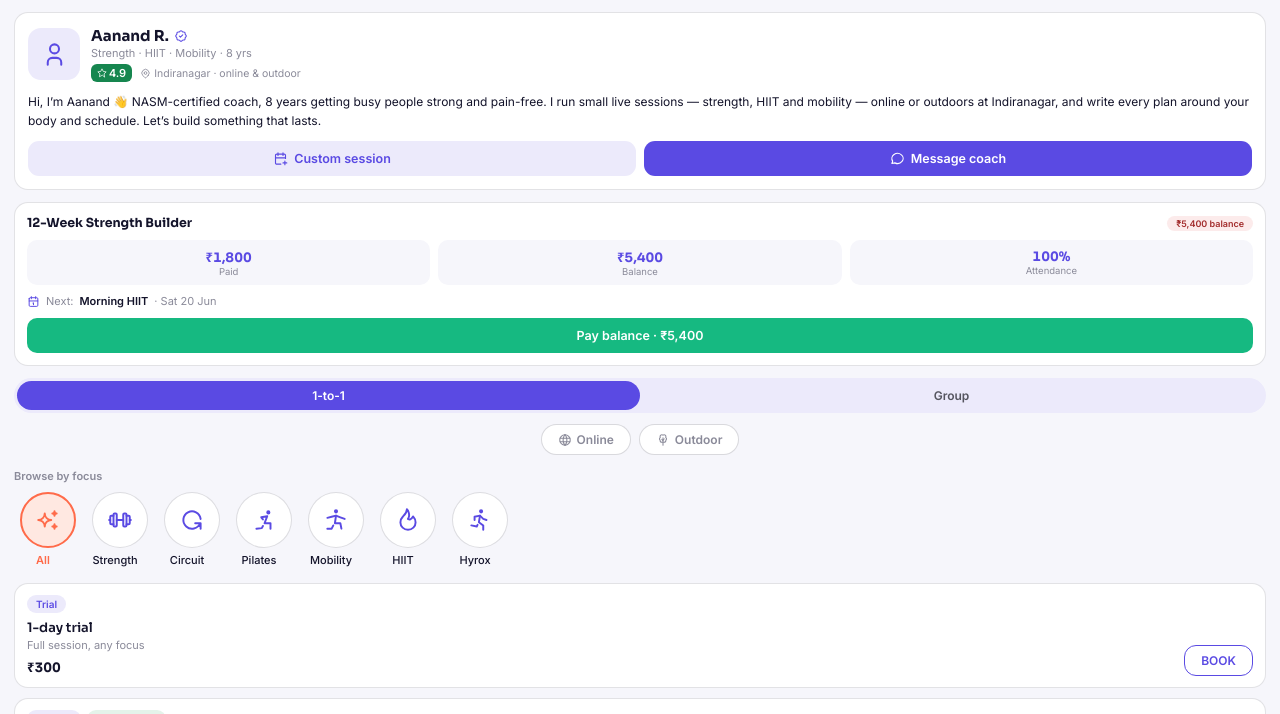
Scenario: SessionsScreen › opens on the coach profile with 1:1 programs, and switches to group classes
This screenshot has width=1280, height=714.
Expected: the text "Aanand R." is shown, [91,26,169,45]
Click the button "Group" at (952, 396), box [640,381,1263,410]
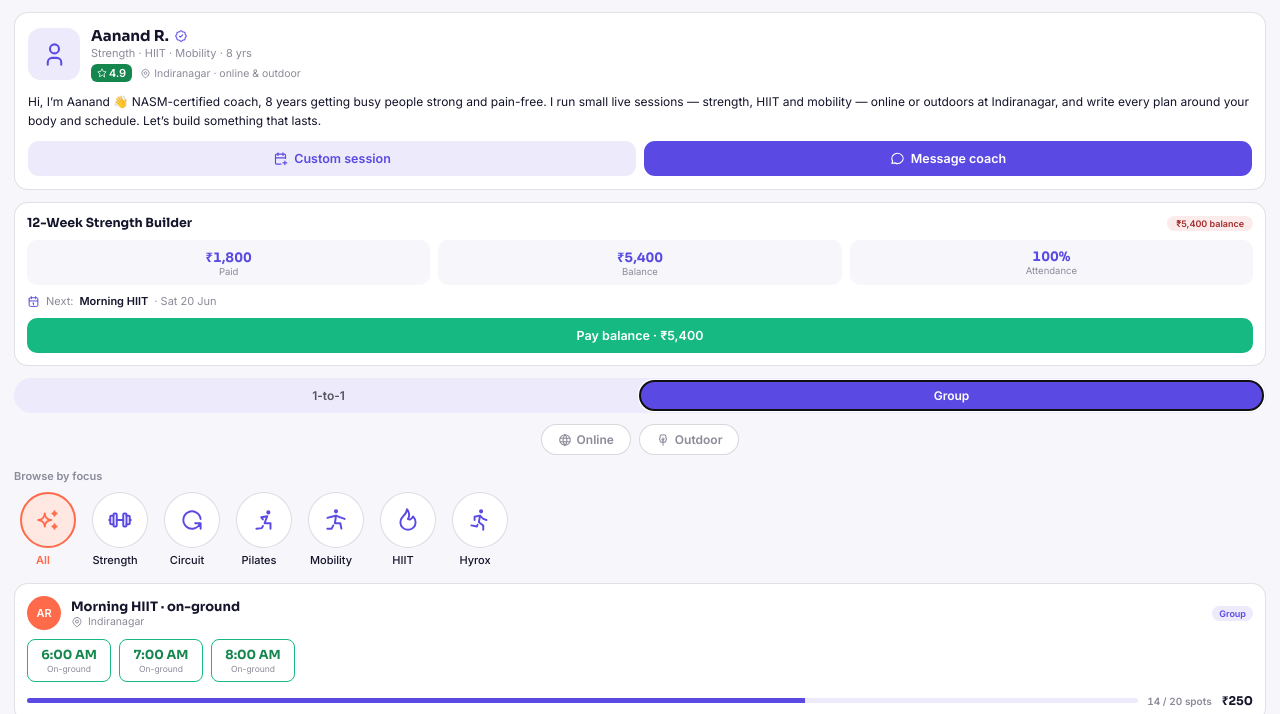
Now the text "Morning HIIT · on-ground" is shown, box [71,598,240,615]
